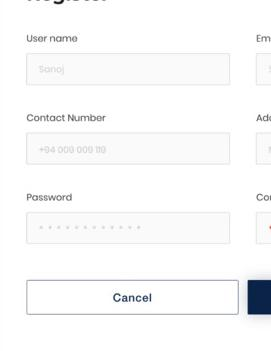button: (23, 280, 238, 316)
field: (21, 50, 232, 88), (25, 209, 230, 247), (24, 130, 231, 165)
field_with_label: (19, 32, 234, 89), (22, 193, 230, 248), (21, 113, 231, 167)
